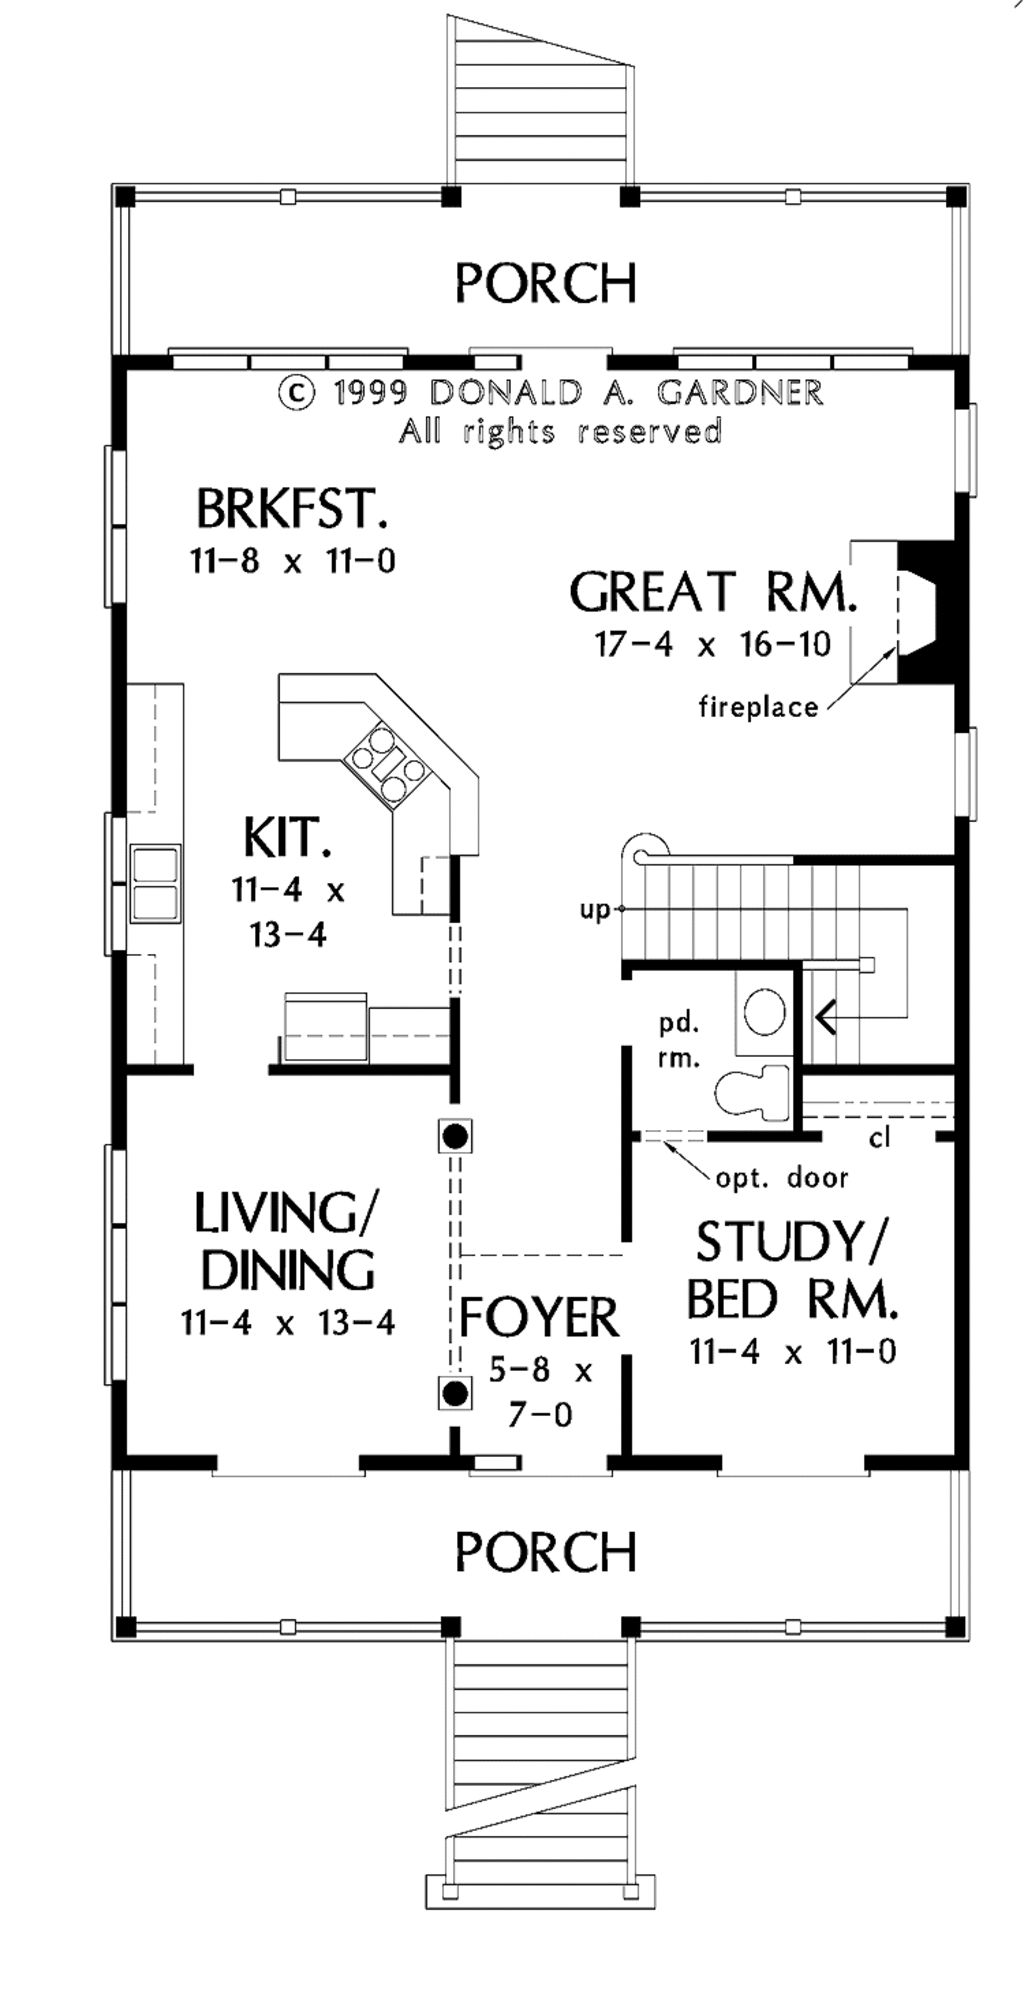stairs: (432, 1621, 657, 1929), (622, 865, 951, 951)
